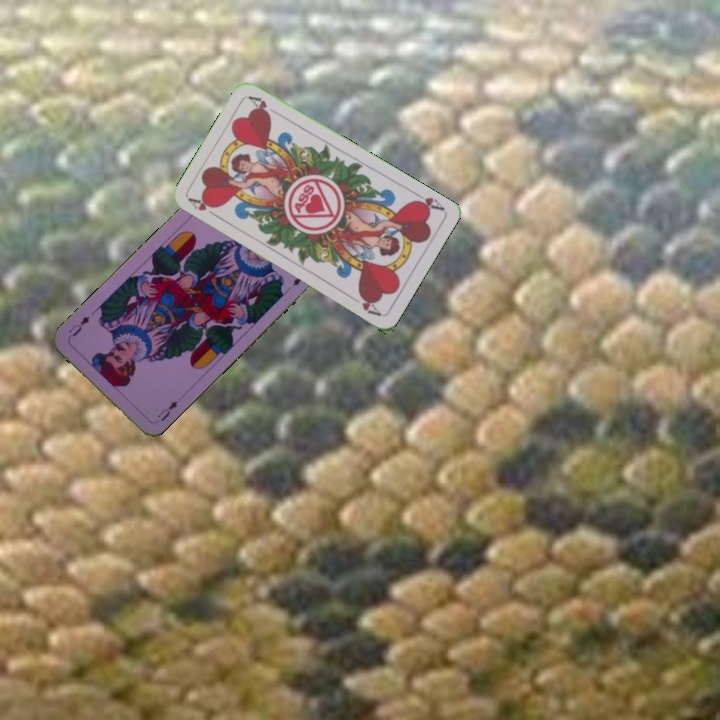EU: (153, 397, 180, 424)
HA: (408, 188, 447, 214), (185, 194, 222, 221)
